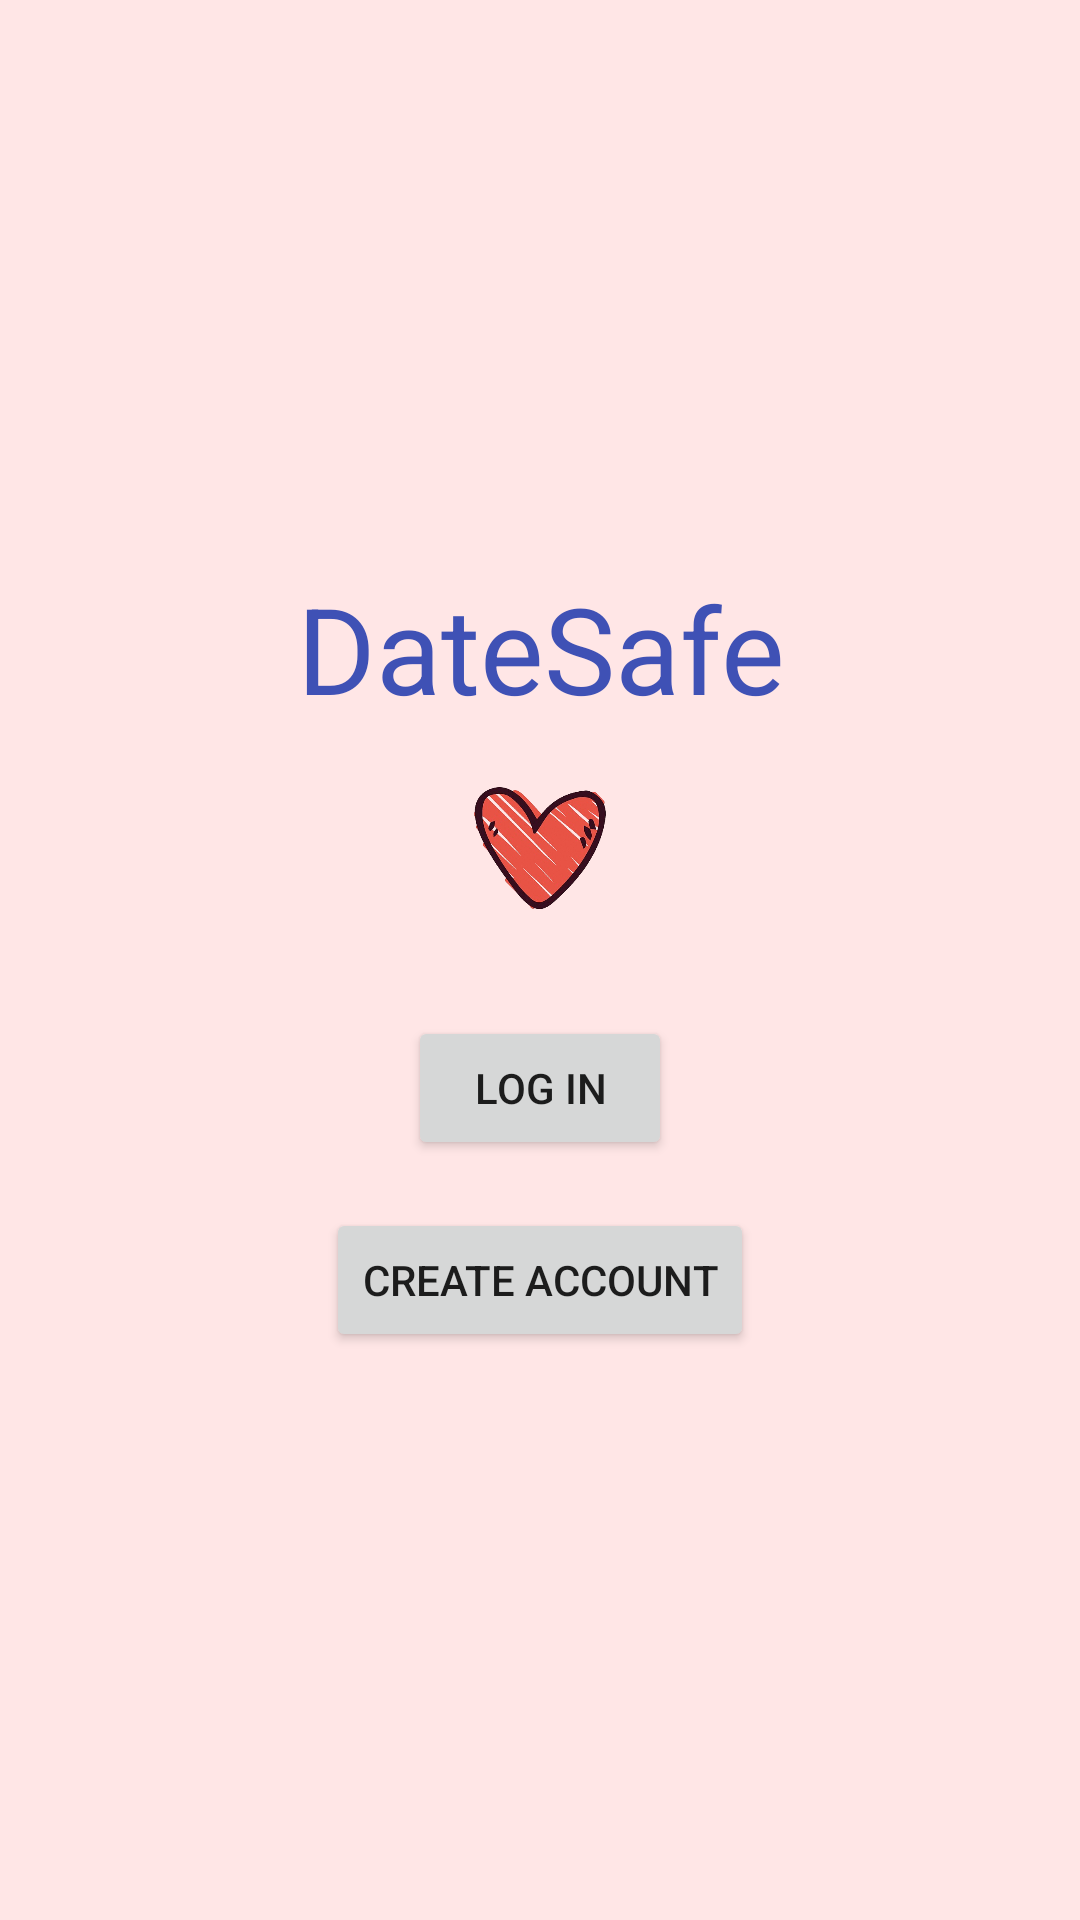

Locate icon controls on the screen. Image size 1080×1920, boxes as (x1, y1, x2, y2).
heart: (474, 787, 606, 909)
